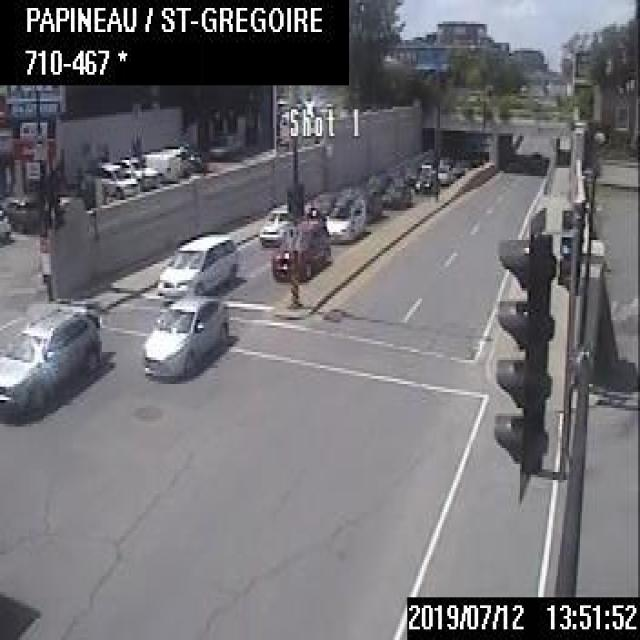vehicle: (0, 299, 100, 424), (142, 298, 230, 376), (154, 230, 238, 298), (270, 214, 330, 281), (89, 154, 138, 198), (326, 190, 365, 242), (0, 194, 38, 234), (258, 200, 288, 243), (141, 148, 177, 182), (122, 153, 156, 187), (415, 161, 439, 197)
